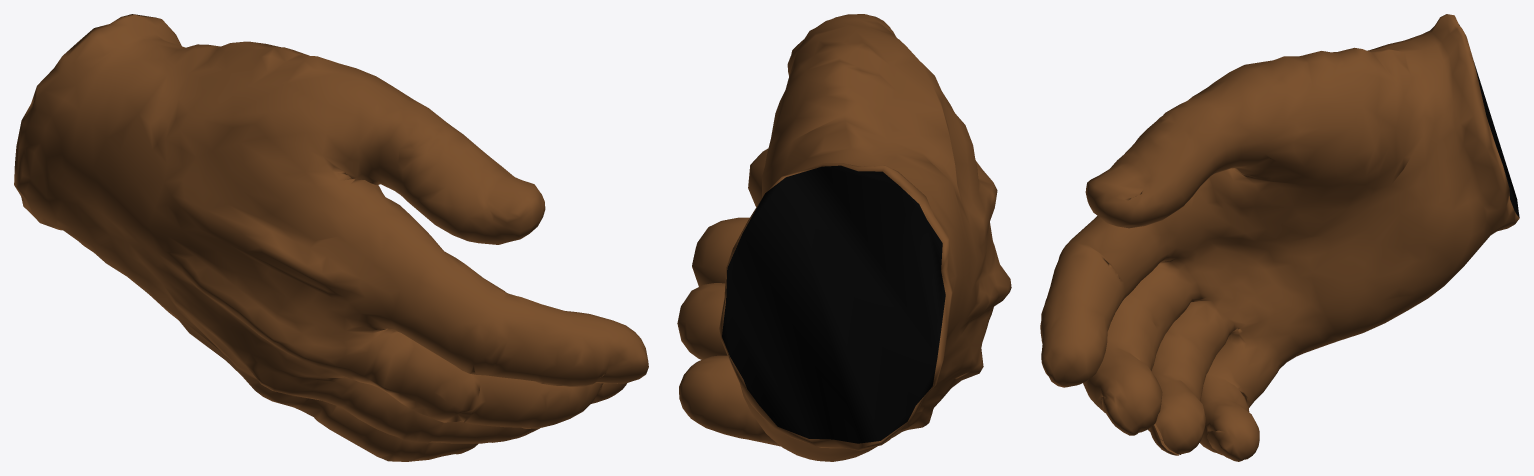
The model's file is hand.glb.
3 views of the same model, side by side, from view 1: azimuth 30°, elevation 25°; view 2: azimuth 150°, elevation 25°; view 3: azimuth 270°, elevation 25° (orthographic). The views are drawn at different scales.
Visible parts, largest first — view 1: HandMesh; view 2: HandMesh; view 3: HandMesh.
Part boxes in pixels (bbox=[...]): HandMesh: bbox=[14, 14, 648, 461]; HandMesh: bbox=[677, 14, 1011, 461]; HandMesh: bbox=[1040, 14, 1519, 461].
Size of the model in its own units: 0.1218 by 0.1114 by 0.1405.
